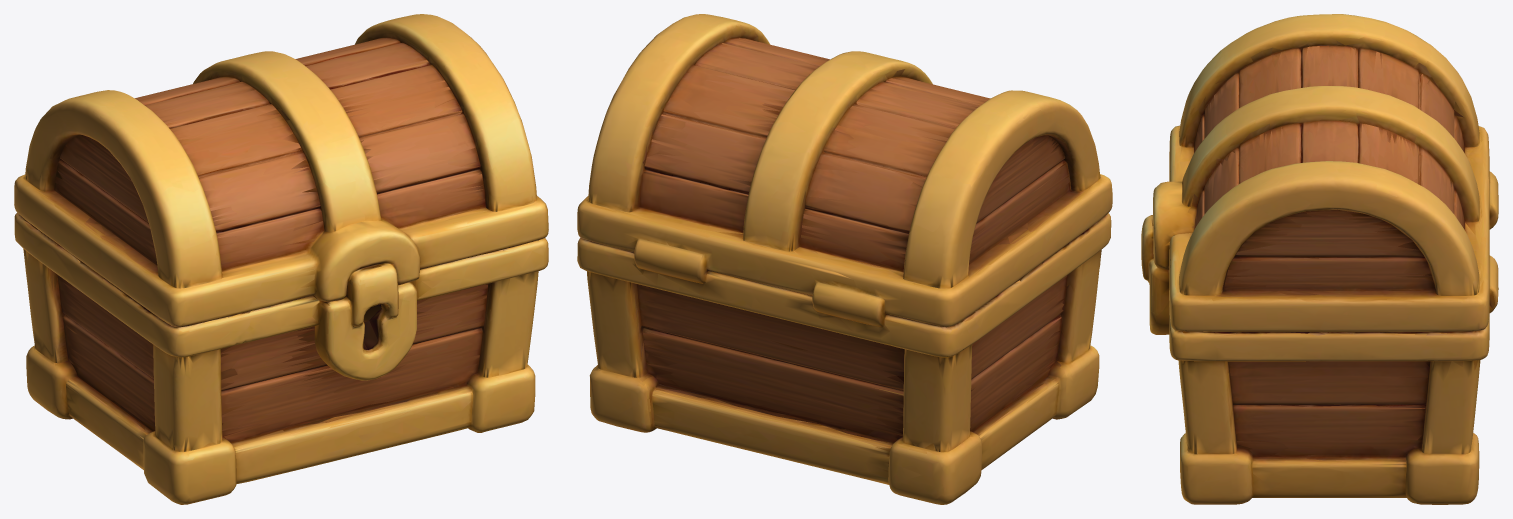
The model's file is 05_chest.glb.
3 renders of one model, left to right at view 1: azimuth 30°, elevation 25°; view 2: azimuth 150°, elevation 25°; view 3: azimuth 270°, elevation 25°, orthographic. The views are drawn at different scales.
Visible parts, largest first — view 1: node_0; view 2: node_0; view 3: node_0.
Boxes of the visible parts, x1,y1,x2,y2 form: node_0: (14,14,548,504); node_0: (577,14,1112,504); node_0: (1141,14,1498,504).
Size of the model in its own units: 1.16 by 0.9997 by 0.9821.
Materials: 1 (1 with a texture image).
